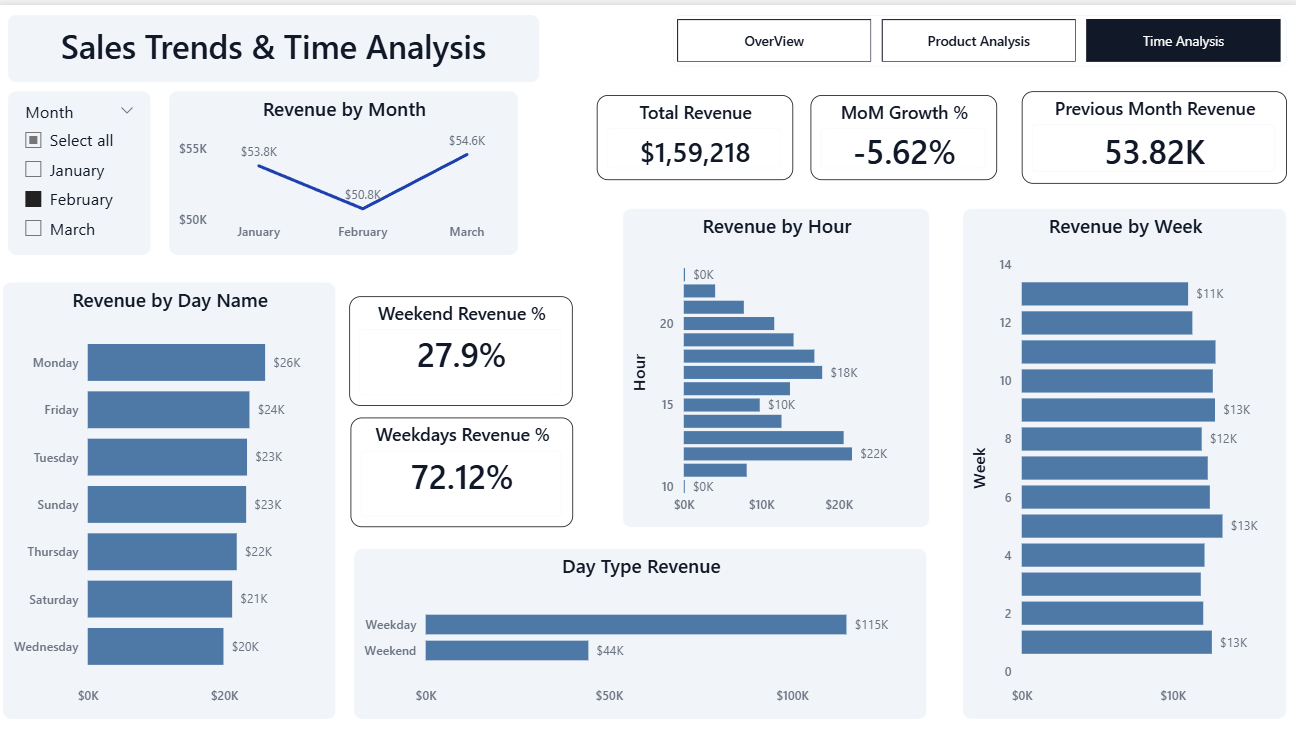

The page's visual inventory and layout, read from the dashboard file:
{"tool":"powerbi","page":{"name":"Time Analysis","canvas":[1280,720],"ordinal":2},"visuals":[{"type":"lineChart","title":"Revenue by Month","fields":{"Y":["restaurant_db menu_items.Total revenue"],"Category":["DateTable.Month Name"]},"box":[172.2,84.3,340.8,160],"z":0},{"type":"cardVisual","title":"MoM Growth %","fields":{"Data":["restaurant_db menu_items.Revenue Growth per month %"]},"box":[798.9,88,182,83.1],"z":1000},{"type":"cardVisual","title":"Previous Month Revenue","fields":{"Data":["restaurant_db menu_items.Revenue Previous Month"]},"box":[1005.4,84.3,259,90.4],"z":2000},{"type":"barChart","title":"Revenue by Day Name","fields":{"Category":["restaurant_db order_details.Day Name"],"Y":["restaurant_db menu_items.Total revenue"]},"box":[9.8,271.2,324.9,426.3],"z":3000},{"type":"barChart","title":" Day Type Revenue","fields":{"Category":["restaurant_db order_details.Day Type"],"Y":["restaurant_db menu_items.Total revenue"]},"box":[353,531.4,559.5,166.1],"z":4000},{"type":"cardVisual","title":"Weekend Revenue %","fields":{"Data":["restaurant_db menu_items.Weekend Revenue %"]},"box":[348.2,284.6,218.7,107.5],"z":5000},{"type":"cardVisual","title":"Weekdays Revenue %","fields":{"Data":["restaurant_db menu_items.Weekdays Revenue %"]},"box":[349.4,403.1,217.4,107.5],"z":6000},{"type":"cardVisual","title":"Total Revenue","fields":{"Data":["restaurant_db menu_items.Total revenue"]},"box":[590,88,191.8,83.1],"z":7000},{"type":"slicer","fields":{"Values":["DateTable.Month Name"]},"box":[14.7,84.3,139.3,160],"z":8000},{"type":"barChart","title":"Revenue by Hour","fields":{"Y":["restaurant_db menu_items.Total revenue"],"Category":["restaurant_db order_details.Hour"]},"box":[615.7,199.1,299.3,311.5],"z":9000},{"type":"barChart","title":"Revenue by Week","fields":{"Y":["restaurant_db menu_items.Total revenue"],"Category":["restaurant_db order_details.Week"]},"box":[948,199.1,316.4,498.4],"z":10000},{"type":"textbox","box":[14.7,9.8,519.2,66],"z":11000},{"type":"pageNavigator","box":[664.6,9.8,599.8,50.1],"z":12000}]}

Visuals, with their boxes in screenshot pixels (x1, y1, x2, y2), scaled from the page's 1280x720 canvas onto the 1296x735 screenshot:
"Revenue by Month" lineChart: (174,86,519,249)
"MoM Growth %" cardVisual: (809,90,993,175)
"Previous Month Revenue" cardVisual: (1018,86,1280,178)
"Revenue by Day Name" barChart: (10,277,339,712)
" Day Type Revenue" barChart: (357,542,924,712)
"Weekend Revenue %" cardVisual: (353,291,574,400)
"Weekdays Revenue %" cardVisual: (354,411,574,521)
"Total Revenue" cardVisual: (597,90,792,175)
slicer - DateTable.Month Name: (15,86,156,249)
"Revenue by Hour" barChart: (623,203,926,521)
"Revenue by Week" barChart: (960,203,1280,712)
textbox: (15,10,541,77)
pageNavigator: (673,10,1280,61)
